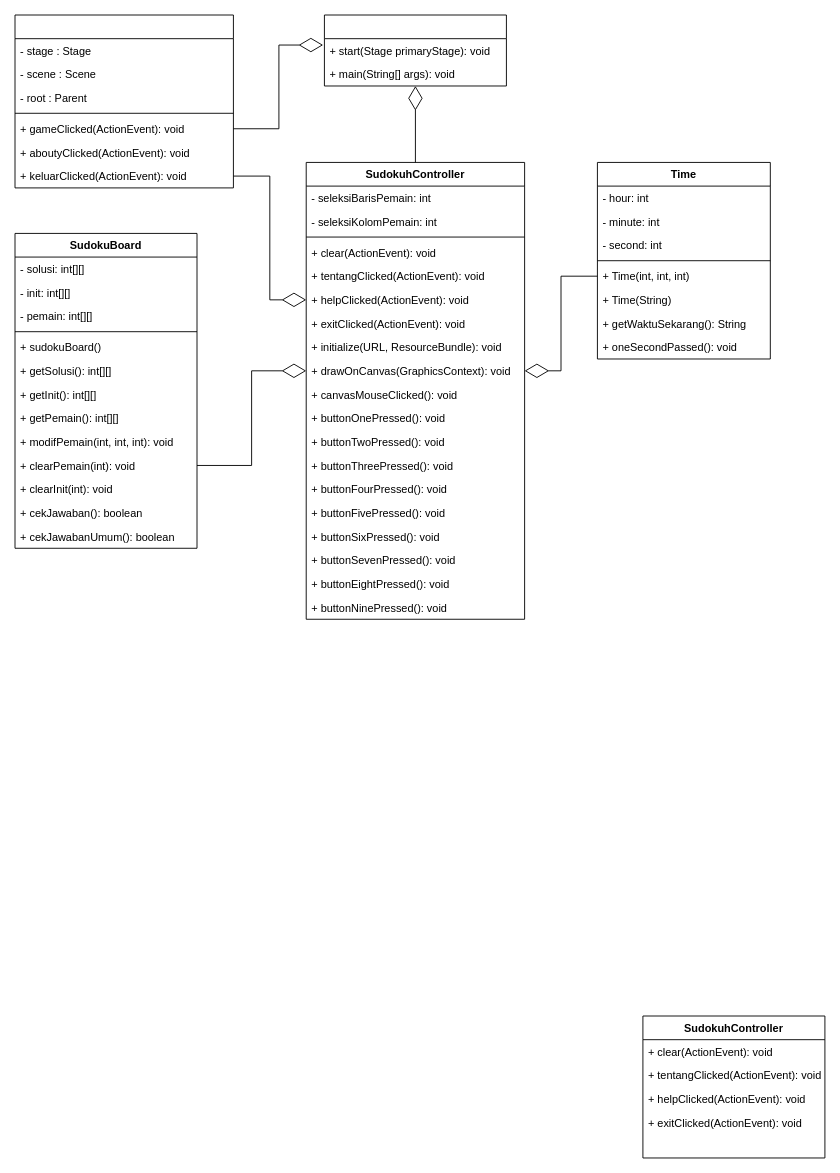
Some shapes in this 840 by 1173 pixel diagram are drawn without their labels. The box of each missing label's shape, as (x1, y1, x2, y2) in pixels:
SceneController: (14, 14, 233, 188)
Sudoku: (324, 14, 506, 86)
